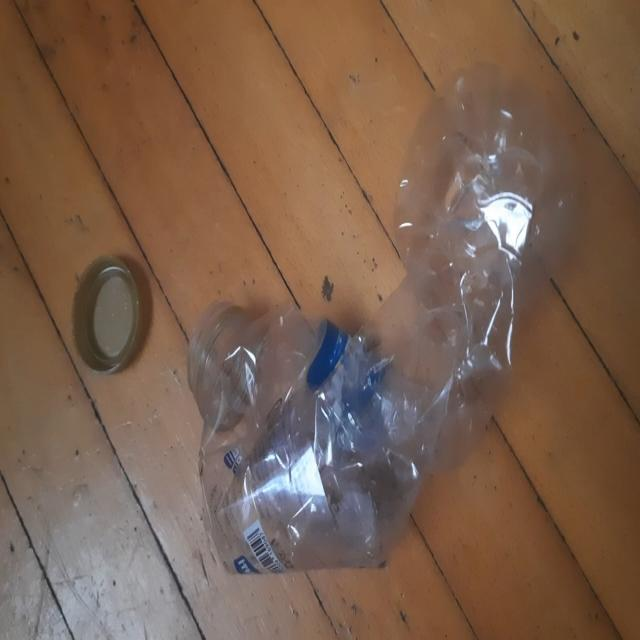Plastic: (194, 61, 550, 577), (70, 256, 152, 378)
